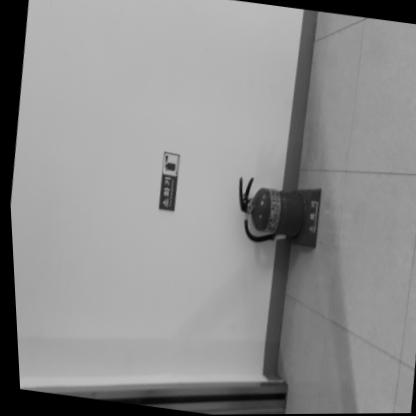FE: (228, 175, 321, 250)
